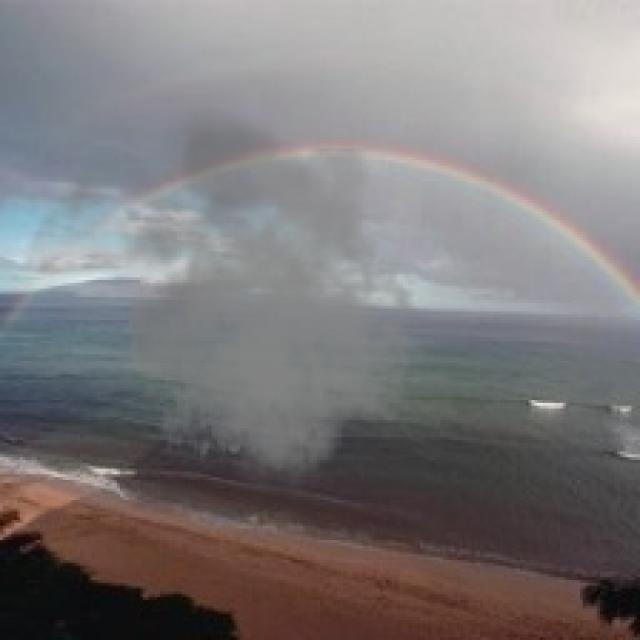smoke: (20, 100, 429, 500)
